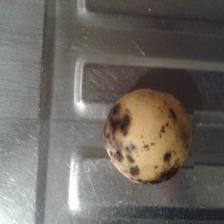Mango Semirotten: (94, 80, 194, 189)
